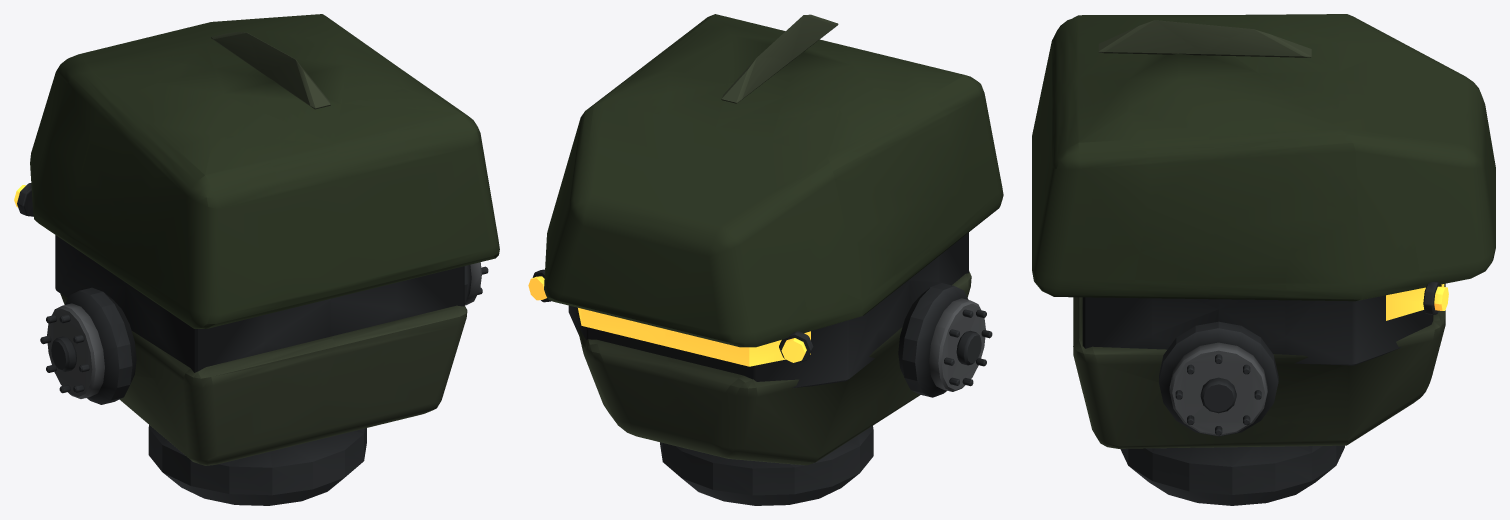
The model's file is frame.head.glb.
3 renders of one model, left to right at view 1: azimuth 30°, elevation 25°; view 2: azimuth 150°, elevation 25°; view 3: azimuth 270°, elevation 25°, orthographic. The views are drawn at different scales.
Size of the model in its own units: 1.9 by 1.93 by 1.81.
